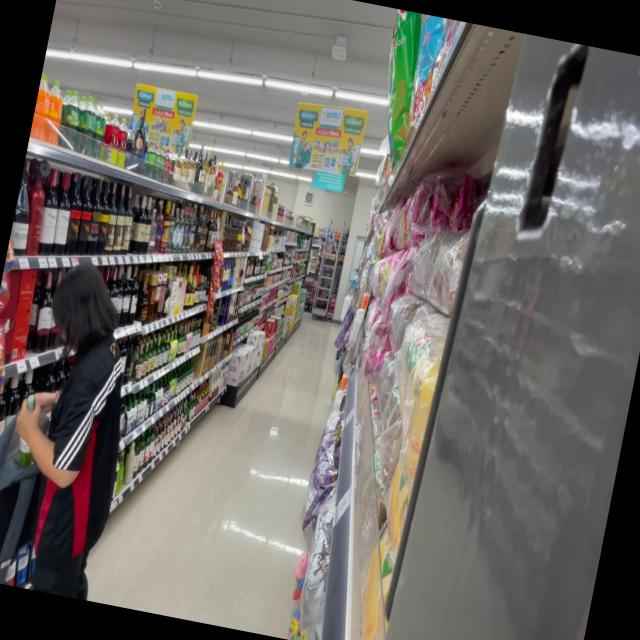shoplifting: (0, 248, 161, 602)
